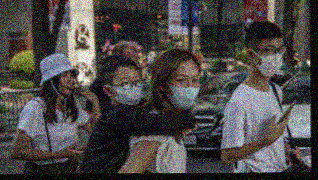with_mask: (162, 72, 200, 110), (109, 72, 144, 106), (252, 43, 284, 77)
without_mask: (58, 70, 75, 96)
